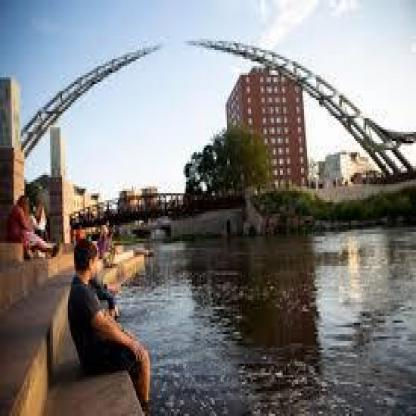other: (344, 236, 371, 304), (337, 143, 367, 188), (112, 243, 150, 276)
